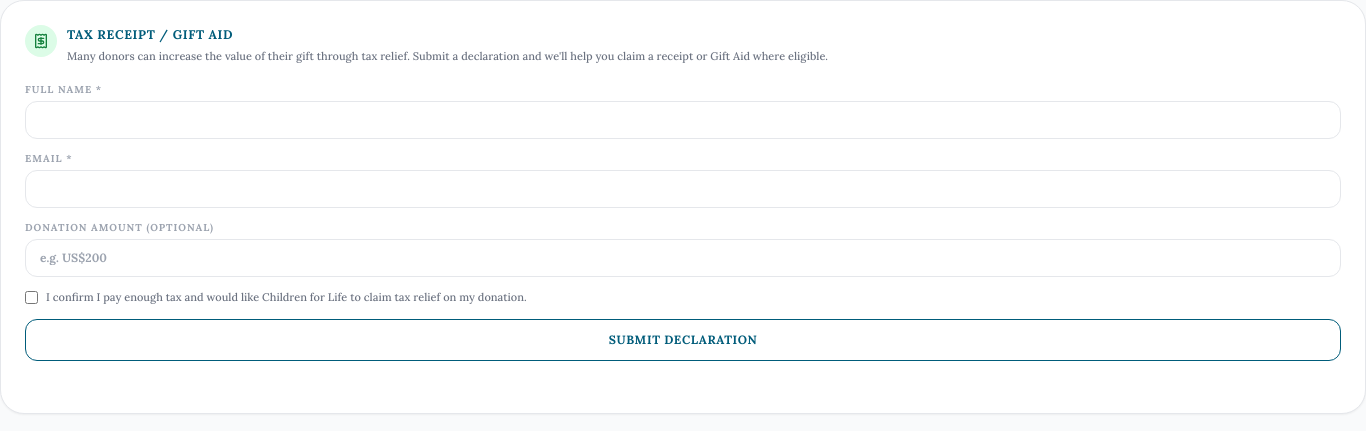
it: GiftAidForm › surfaces the server error when the API fails
Type "Jane Doe" into the field labelled "Full name *".
click(683, 120); type("Jane Doe")  # box [25, 101, 1341, 139]
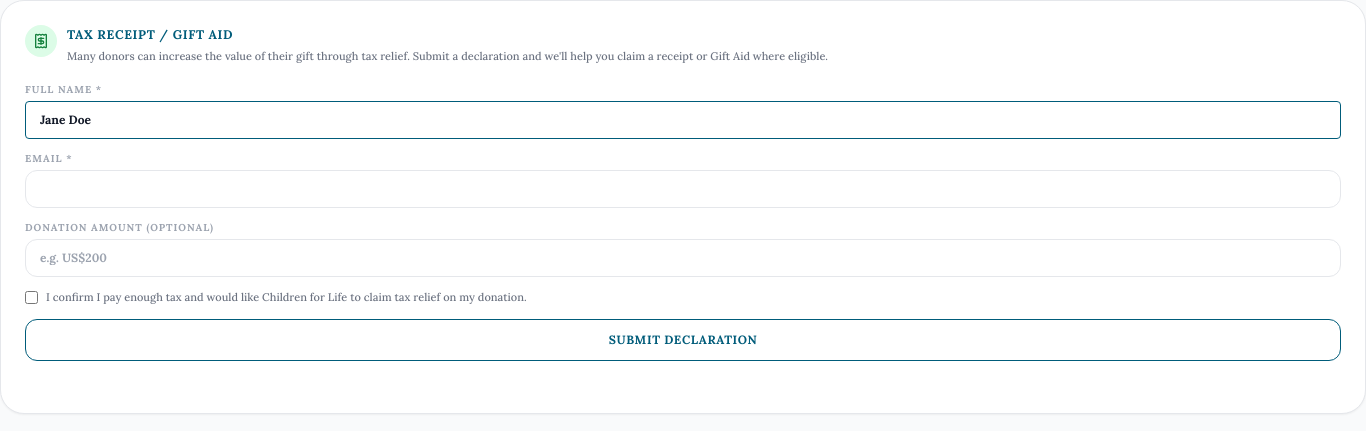
Type "jane@example.com" into the field labelled "Email *".
click(683, 189); type("jane@example.com")  # box [25, 170, 1341, 208]
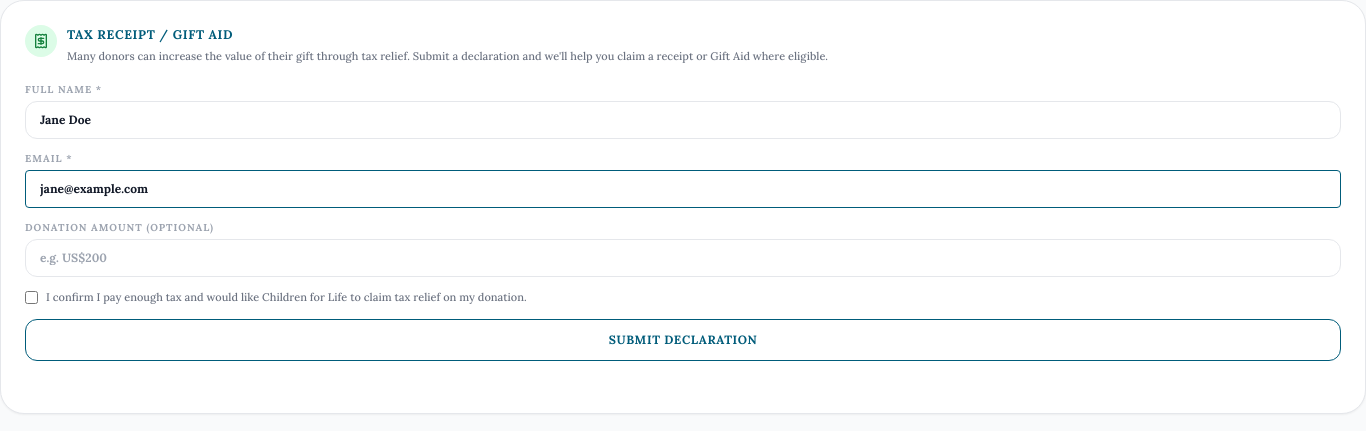
Click the checkbox labelled "I confirm I pay enough tax".
click(32, 297)  # box [25, 291, 38, 304]
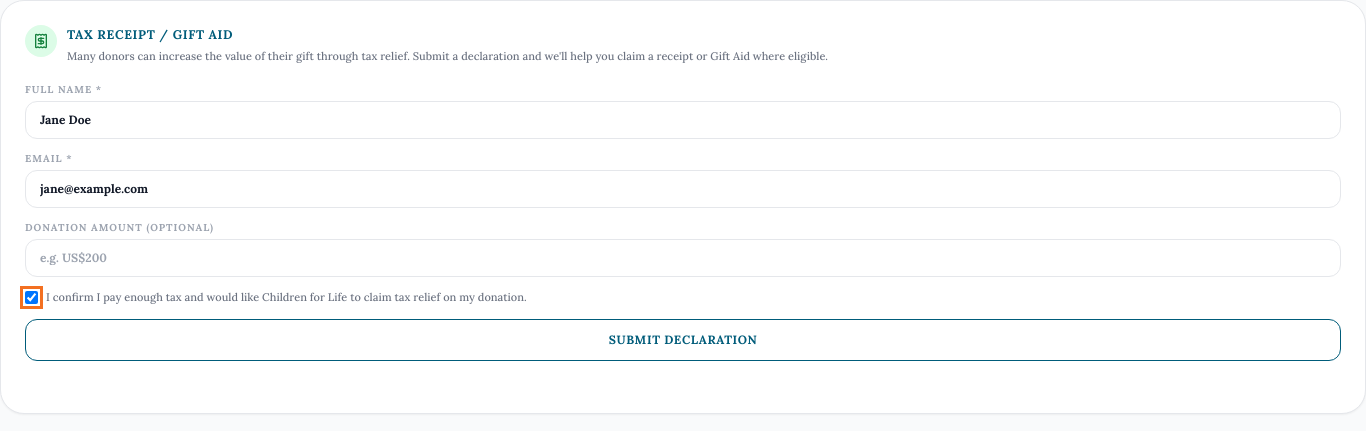
Click the button "Submit Declaration".
click(683, 340)  # box [25, 318, 1341, 360]
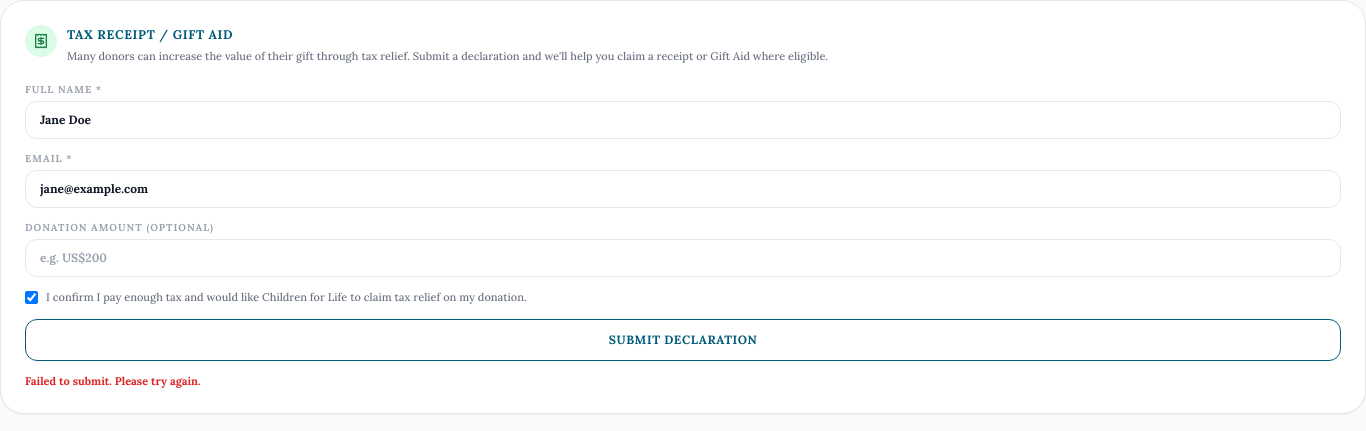
Check: the text "Failed to submit. Please try again." is shown, box [25, 374, 201, 388]
